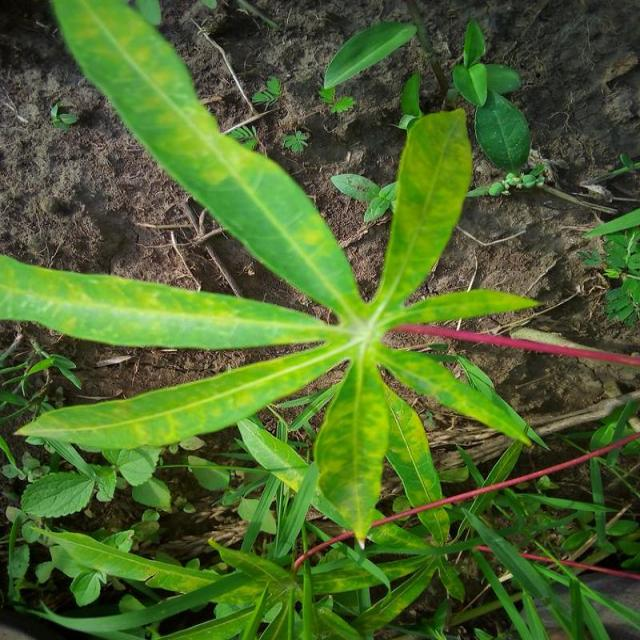cassava leaf: (5, 0, 554, 553), (50, 0, 365, 321), (1, 253, 334, 350), (324, 19, 418, 91)
